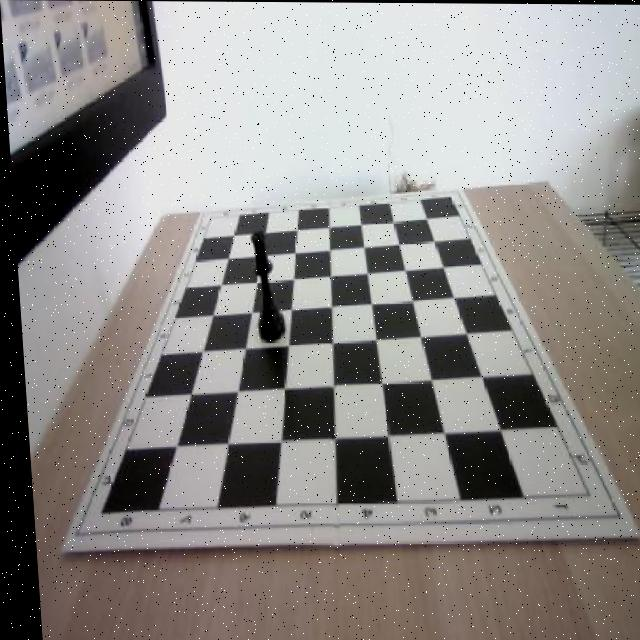black-pawn: (245, 232, 284, 345)
